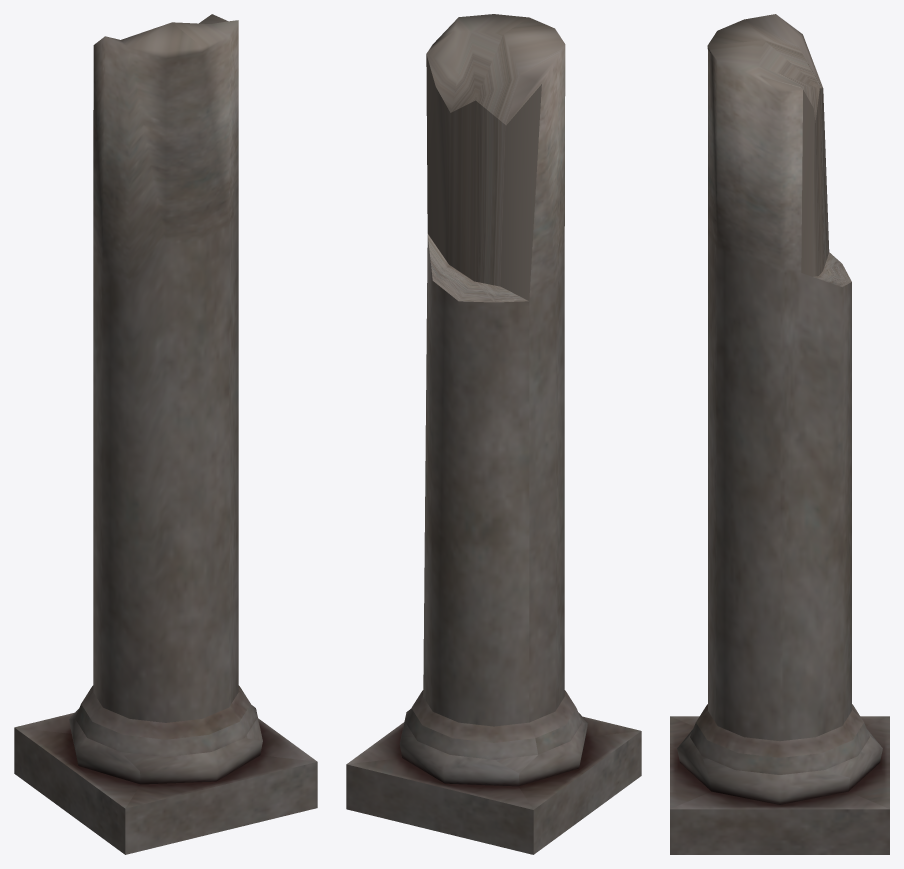
The model's file is sb_obj_outdoor009_AncientTemple_pillar02C_col.fbx.
The picture shows the model from 3 angles, left to right: view 1: azimuth 30°, elevation 25°; view 2: azimuth 150°, elevation 25°; view 3: azimuth 270°, elevation 25°; orthographic projection. The views are drawn at different scales.
Parts seen in each view (by area): view 1: sb_obj_outdoor009_AncientTemple_pillar02C_col; view 2: sb_obj_outdoor009_AncientTemple_pillar02C_col; view 3: sb_obj_outdoor009_AncientTemple_pillar02C_col.
Part boxes in pixels (x1=…): sb_obj_outdoor009_AncientTemple_pillar02C_col: x1=14, y1=14, x2=317, y2=854; sb_obj_outdoor009_AncientTemple_pillar02C_col: x1=346, y1=14, x2=641, y2=854; sb_obj_outdoor009_AncientTemple_pillar02C_col: x1=670, y1=14, x2=889, y2=854.
Bounding box in the file's own units: 1.31 × 5.03 × 1.31.
